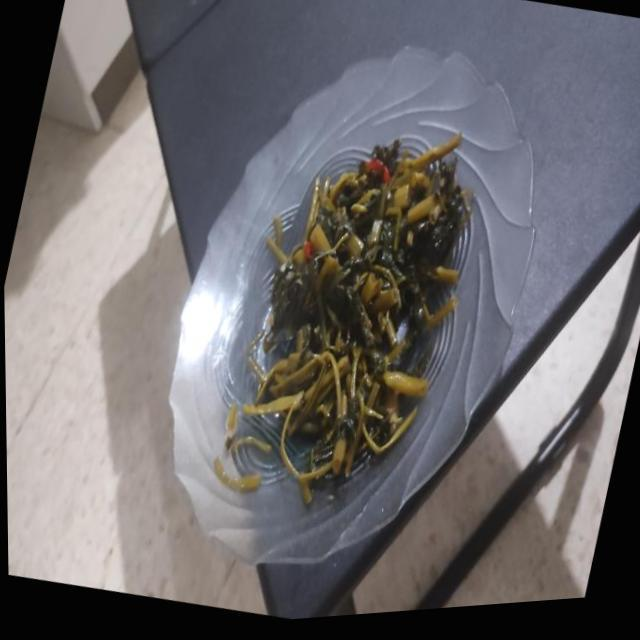tumis_kangkung: (242, 134, 472, 503)
